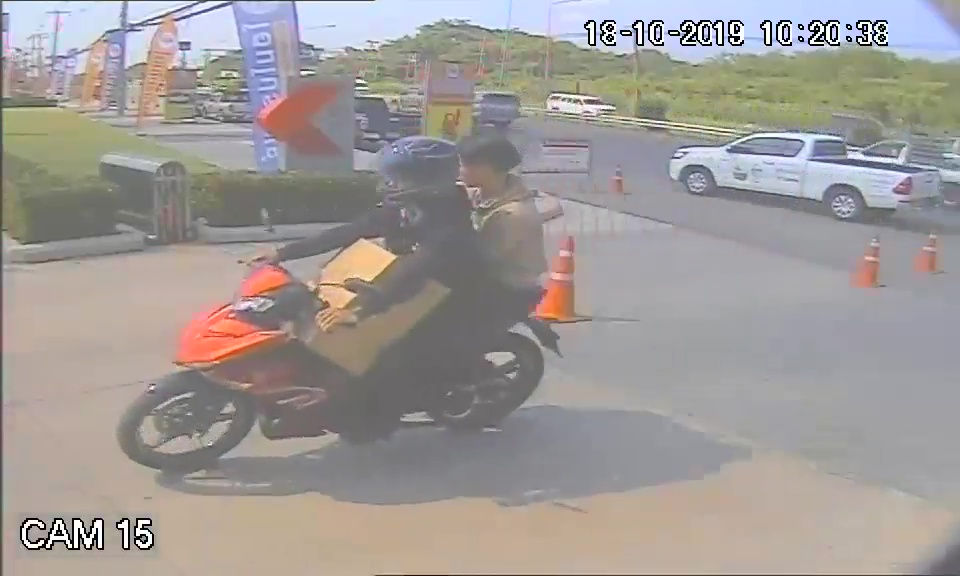motorcycle: (114, 255, 565, 471)
